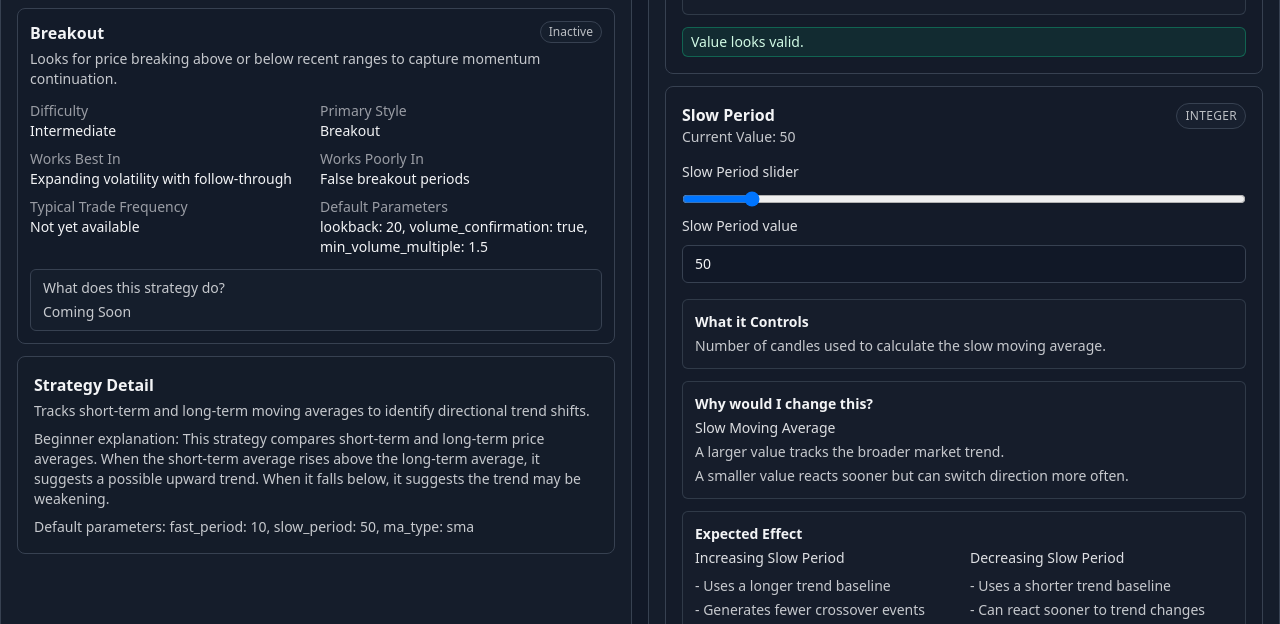
Test: StrategyLabPage Prompt 4.2 › renders Configuration Coach warning state for out-of-range recommendations
The image size is (1280, 624).
(page scrolled)
Replace the text in the number field labelled "Slow Period value" with "300": (964, 264) [682,245,1246,283]
(page scrolled)
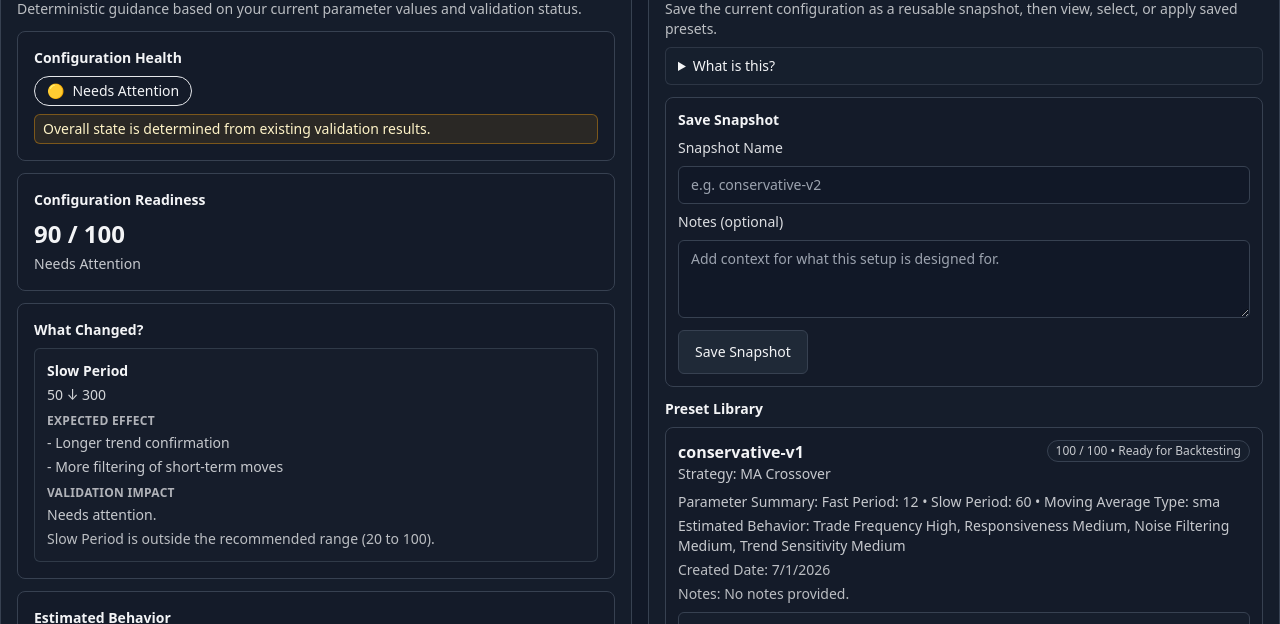
Result: the element with test id "configuration-health-badge" shows "Needs Attention" at [72,81,179,100]
Result: the text with test id "readiness-score" reads "90 / 100" at [34,217,125,250]
Result: the 2nd text "Needs Attention" is shown at [34,254,141,273]
